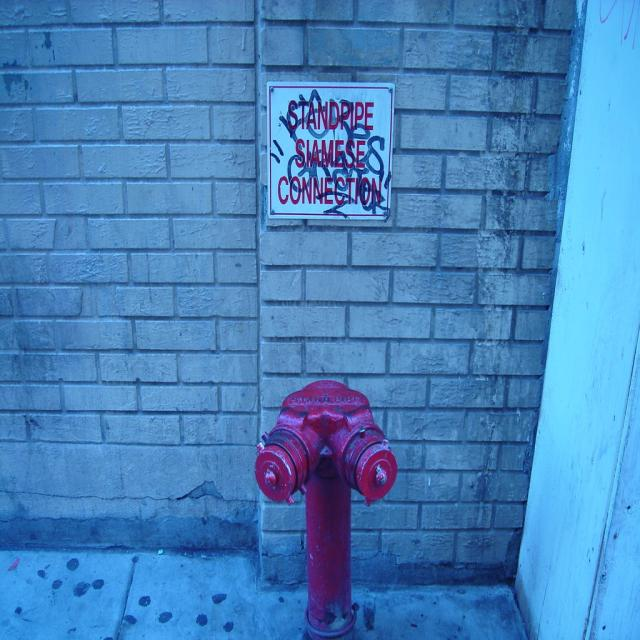fire_hydrant: (252, 378, 398, 640)
